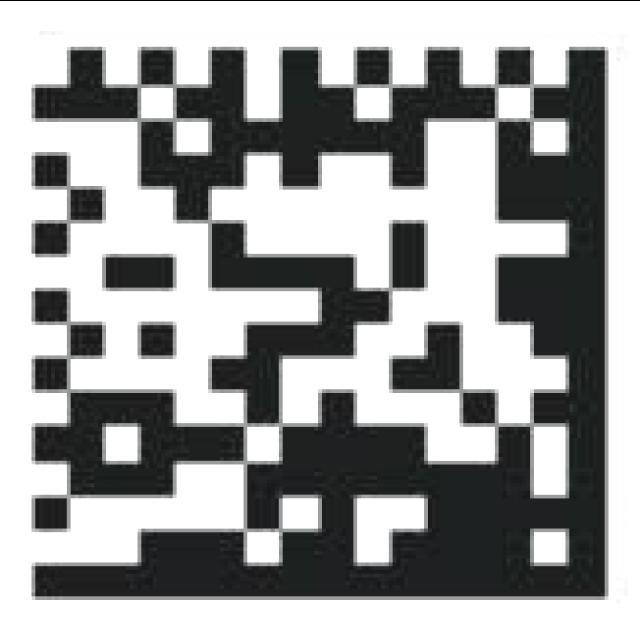Data-Matrix: (20, 38, 616, 610)
